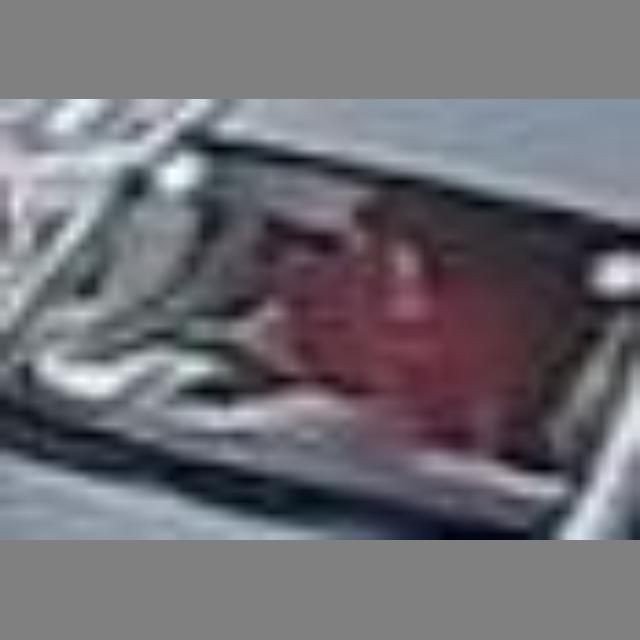tidak-pakai: (254, 198, 508, 419)
